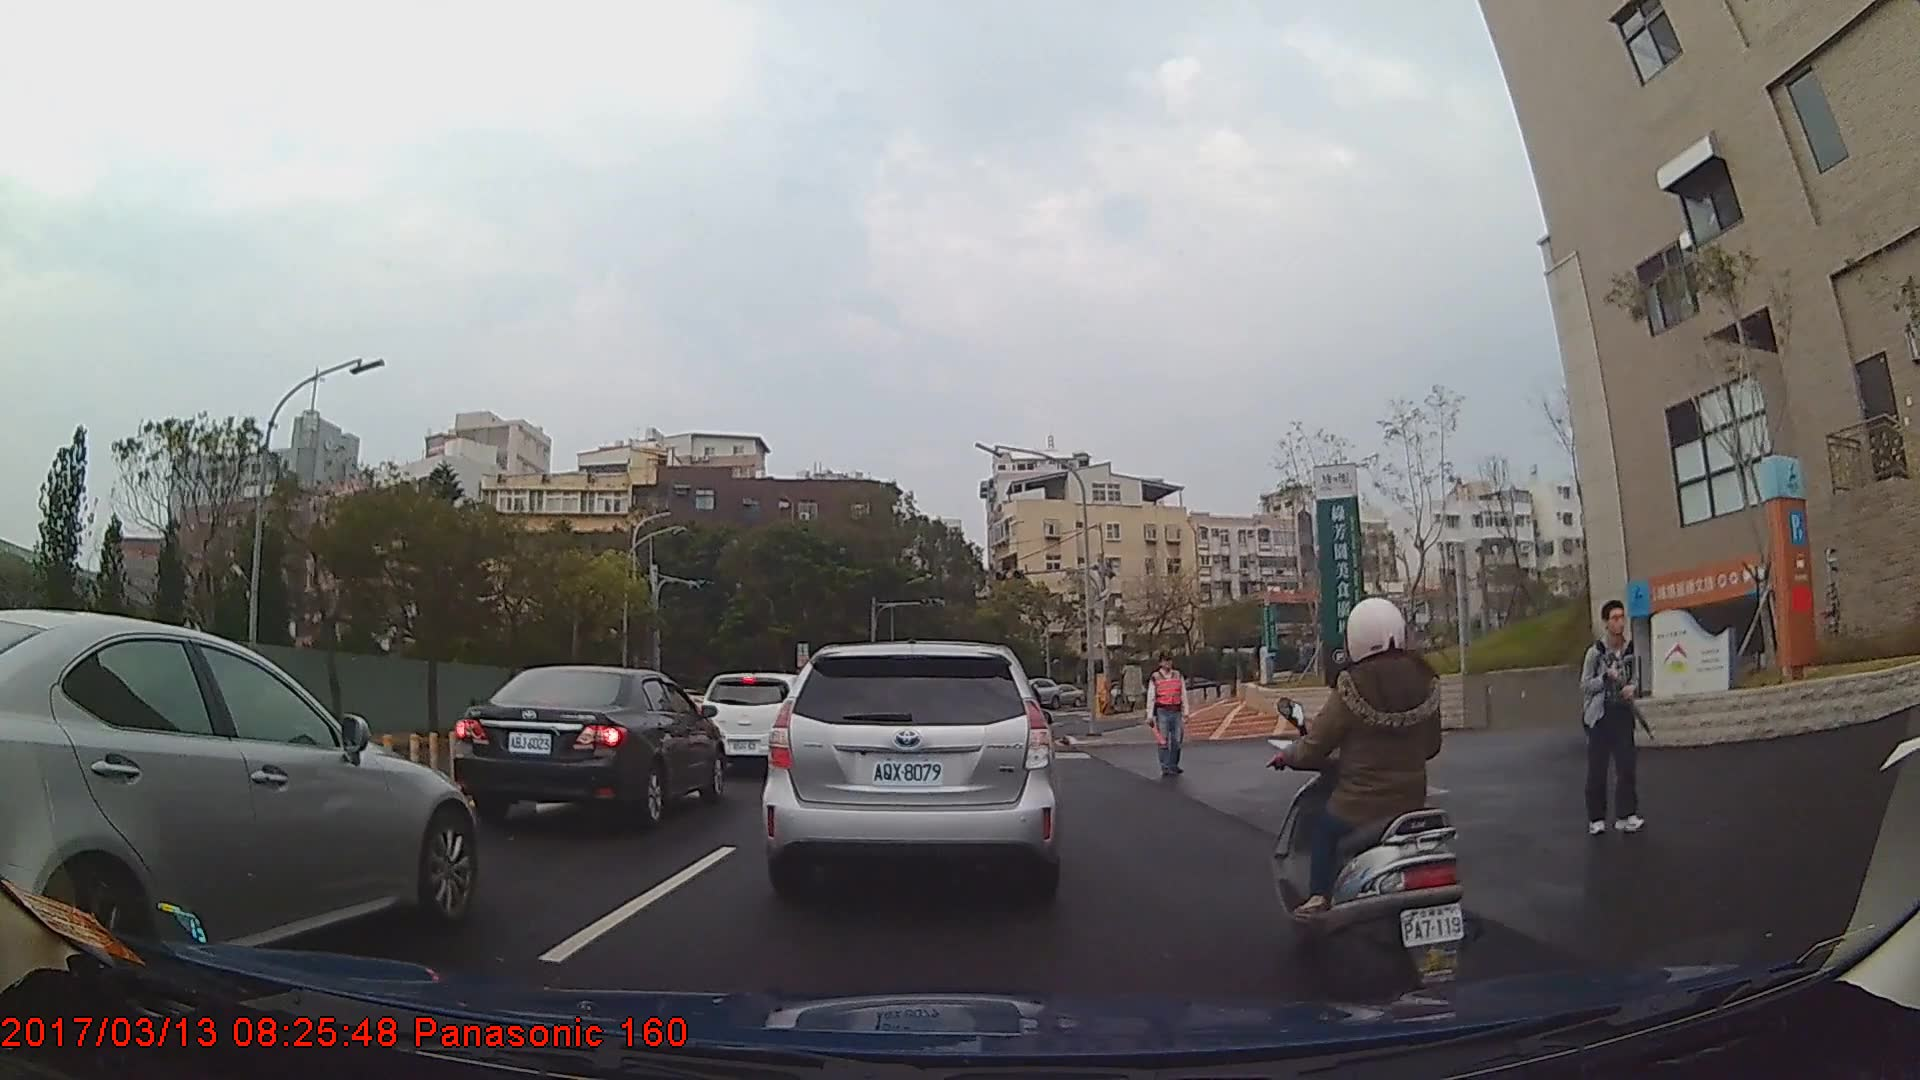pedestrian: (1578, 606, 1645, 841), (1143, 645, 1201, 786)
rider: (1262, 598, 1478, 999)
vehicle: (0, 608, 480, 972), (763, 641, 1061, 902), (452, 664, 727, 832), (704, 673, 818, 770), (1046, 682, 1086, 711)
